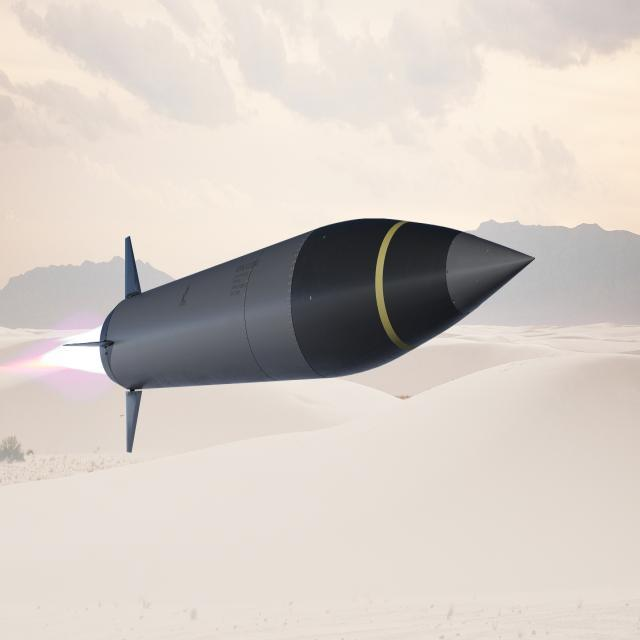missile: (98, 210, 536, 447)
